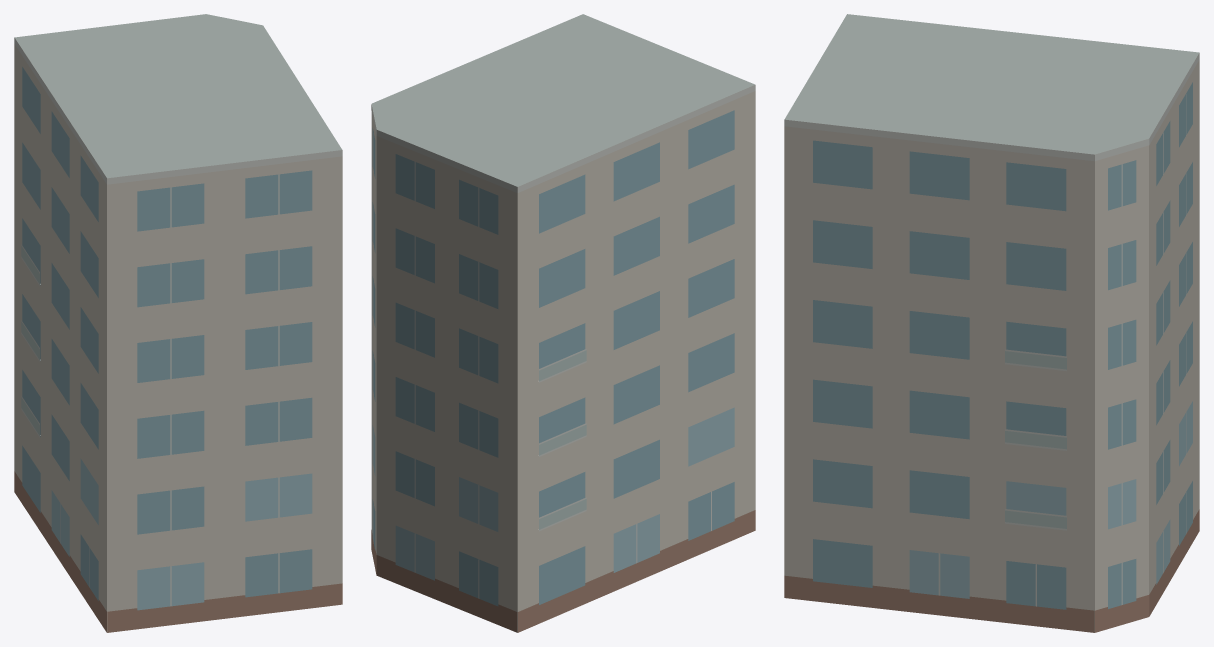
File: survey-upis-32877817.glb
3 views of the same model, side by side, from view 1: azimuth 30°, elevation 25°; view 2: azimuth 150°, elevation 25°; view 3: azimuth 270°, elevation 25° (orthographic). The views are drawn at different scales.
Parts seen in each view (by area): view 1: survey-upis-32877817.tmp; view 2: survey-upis-32877817.tmp; view 3: survey-upis-32877817.tmp.
Boxes of the visible parts, x1,y1,x2,y2 form: survey-upis-32877817.tmp: (14,14,342,632); survey-upis-32877817.tmp: (371,14,755,632); survey-upis-32877817.tmp: (784,14,1199,632).
Size of the model in its own units: 11.04 by 17.5 by 13.78.
